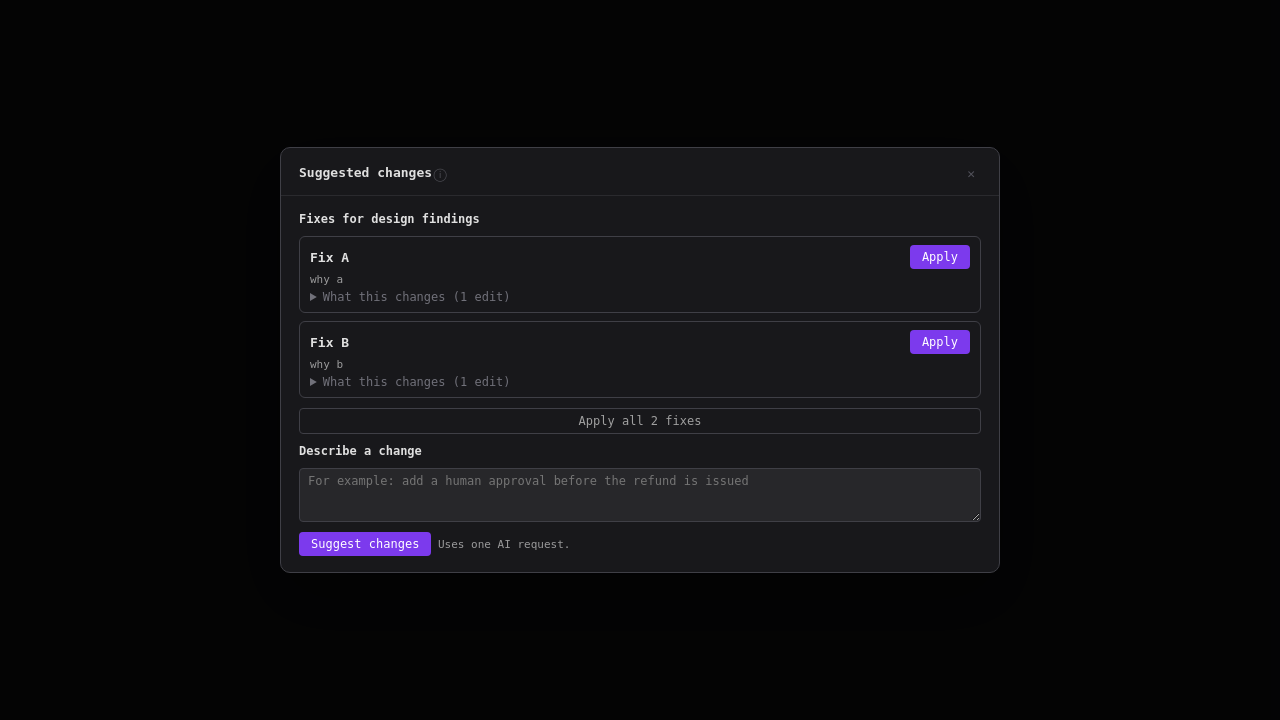
SuggestionsModal — describe a change › shows the AI proposals and what was discarded
Expected: the text "Fix A" is shown, [310,250,349,264]
Replace the text in the text box named "Describe the change" with "add a human approval" at (640, 495), box [299,468,981,522]
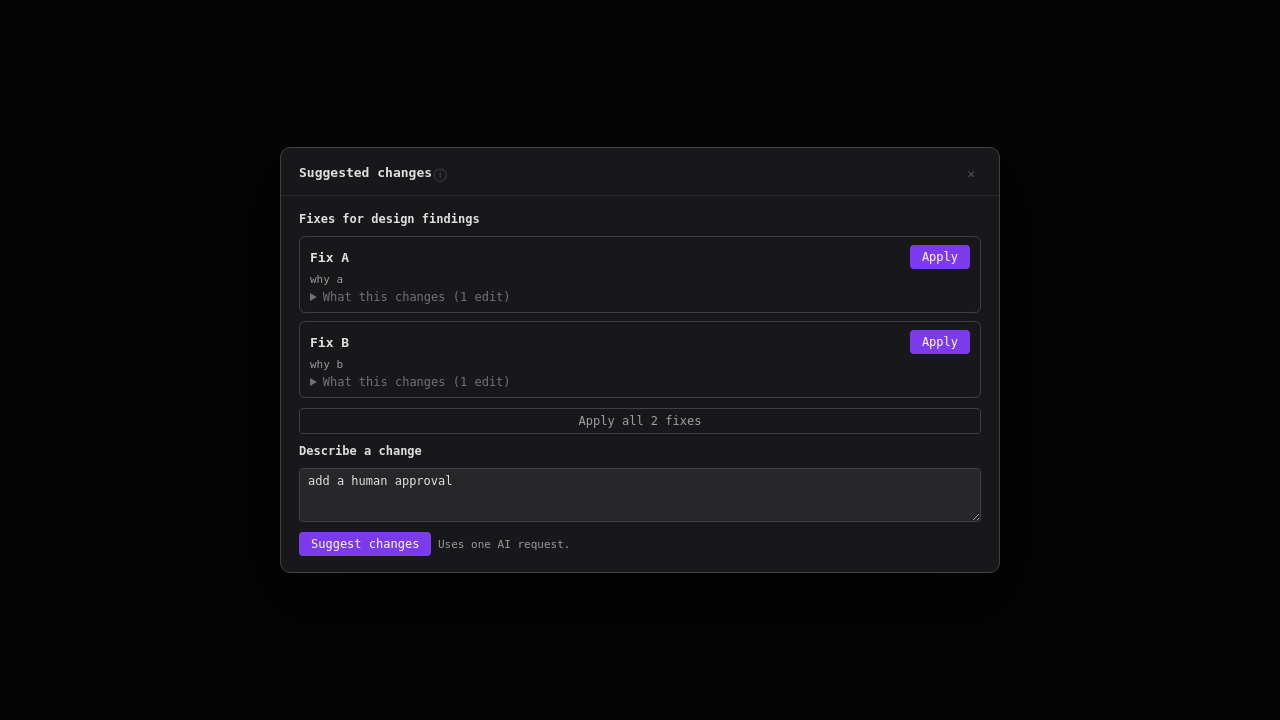
Click the button "Suggest changes" at (365, 544), box [299,532,431,556]
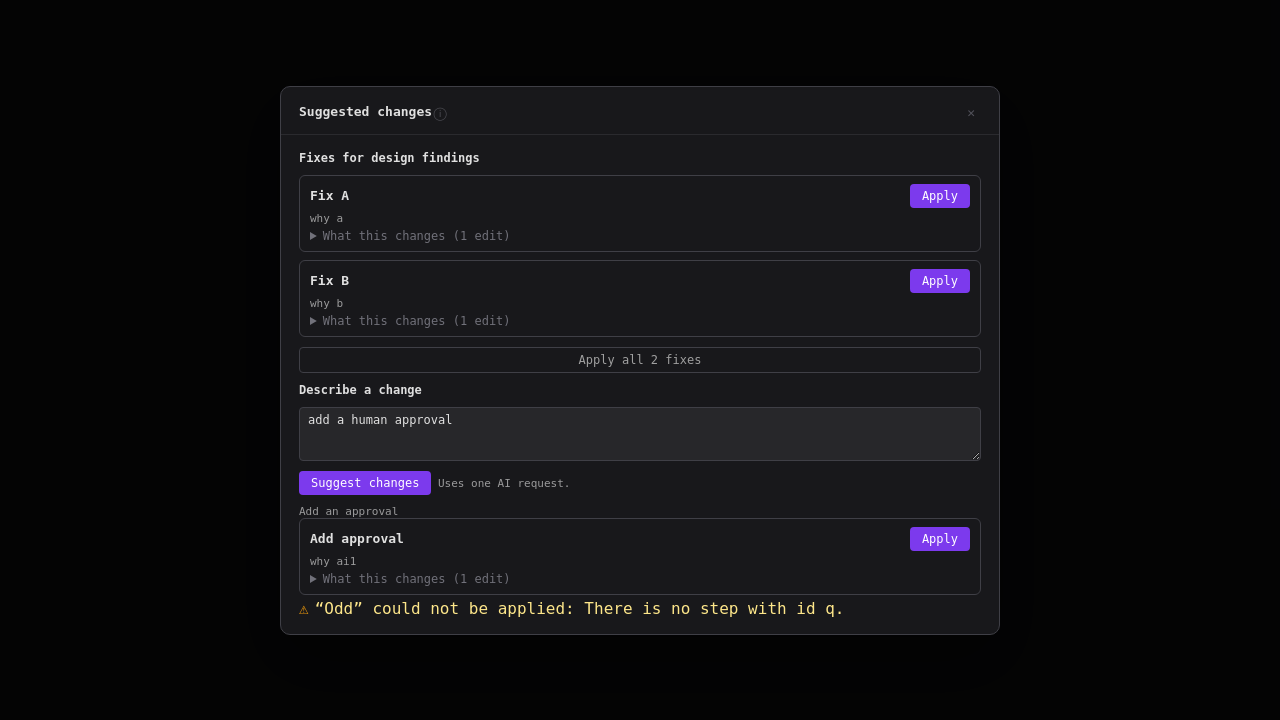
Result: the element with test id "ai-result" shows "Add an approval" at [299,504,398,518]
Result: the text "Add approval" is shown at [310,531,404,546]
Result: the list with test id "ai-discarded" shows "could not be applied" at [315,598,844,618]
